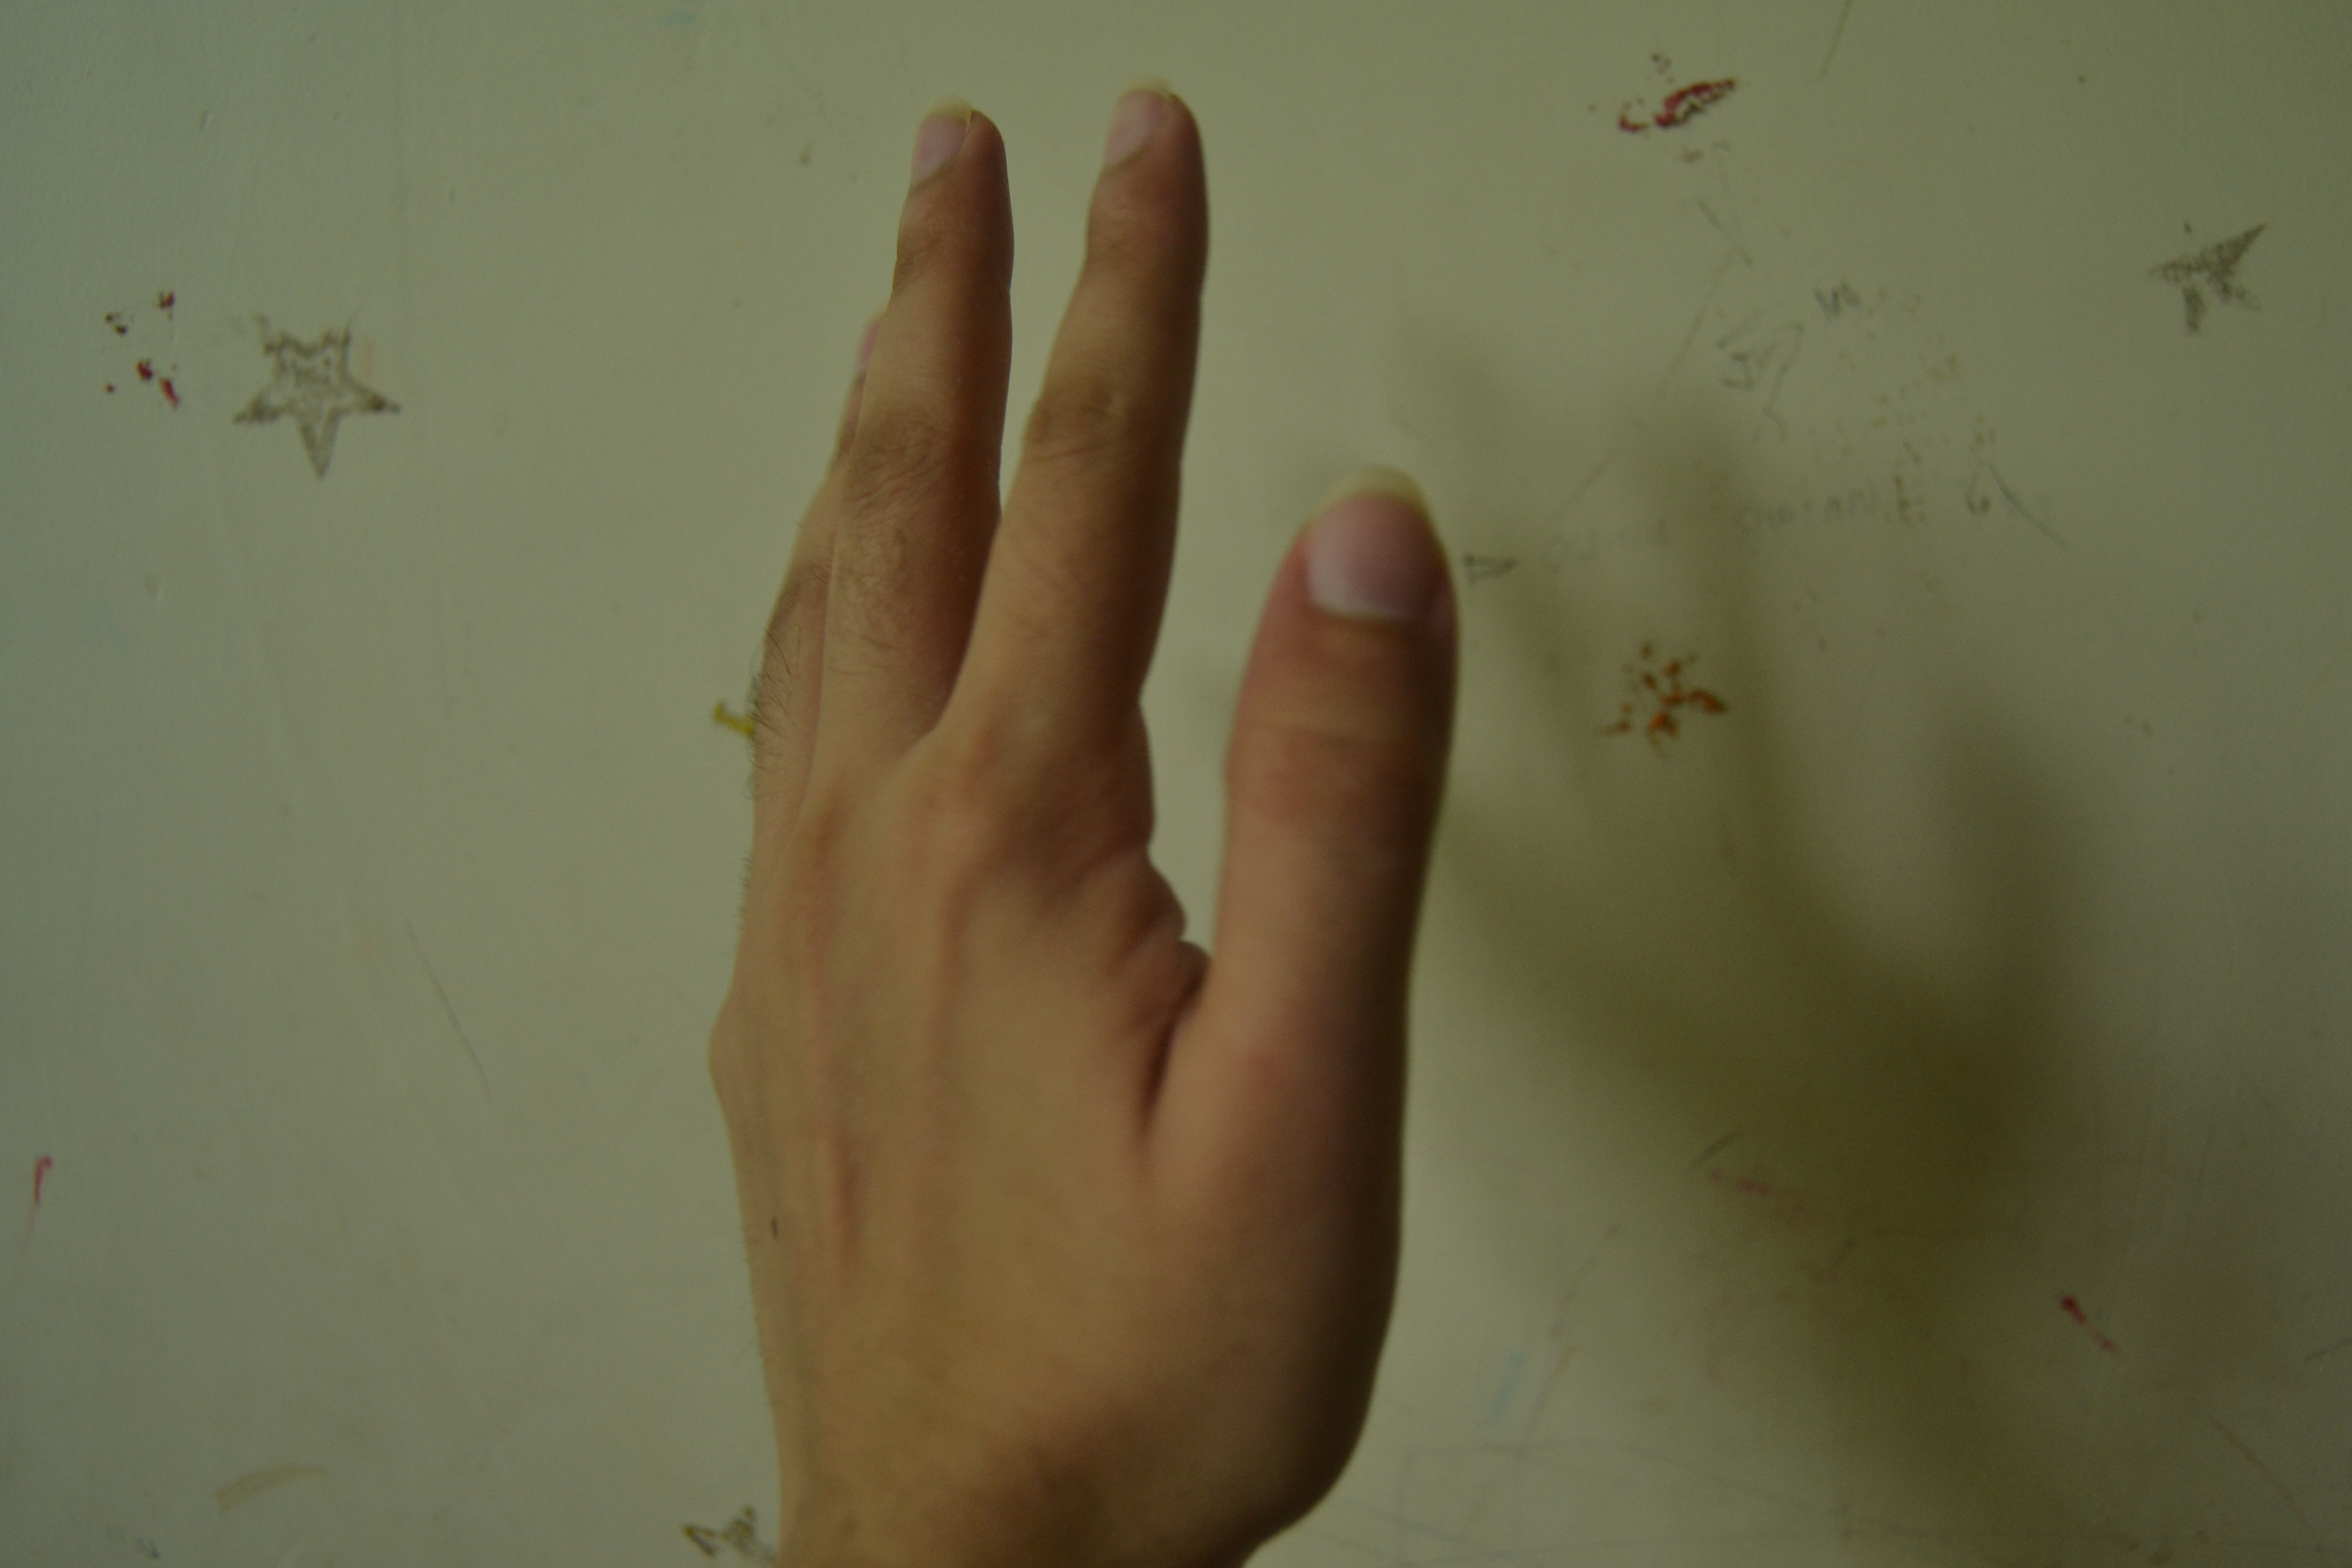move: (705, 72, 1517, 1447)
